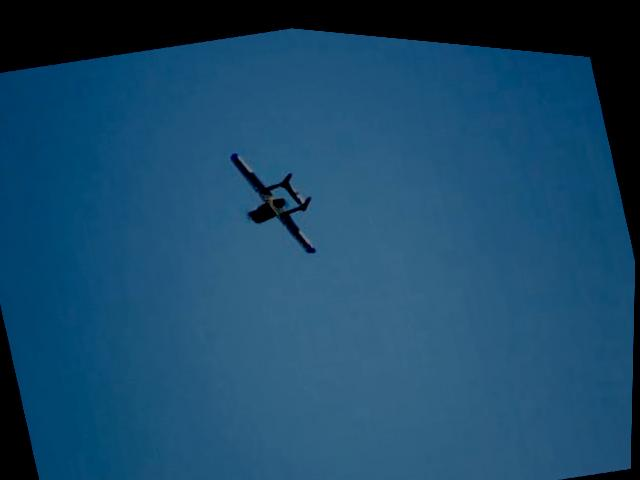uav: (226, 127, 328, 265)
